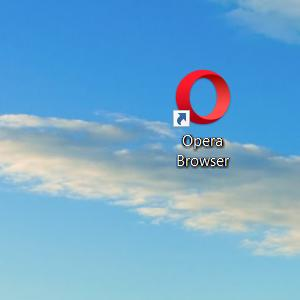opera: (172, 69, 231, 128)
